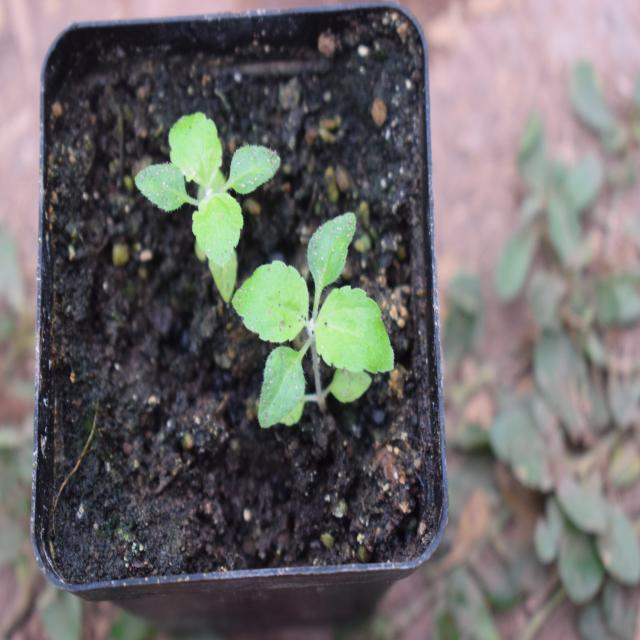billygoat_weed: (249, 226, 392, 427), (138, 98, 278, 276)
